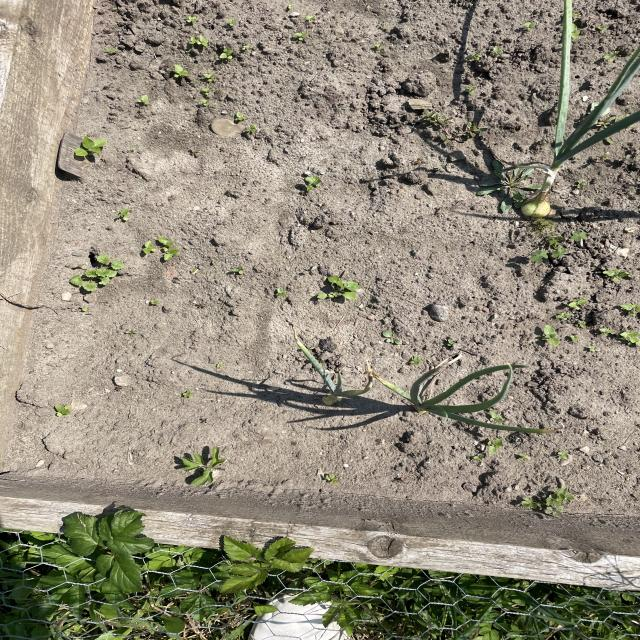Onion: (523, 2, 640, 218), (386, 384, 539, 426), (310, 352, 376, 406)
weed: (504, 226, 599, 272), (170, 444, 231, 493), (523, 486, 598, 525), (70, 251, 123, 298), (311, 272, 365, 309), (132, 233, 186, 264), (66, 134, 109, 160)
